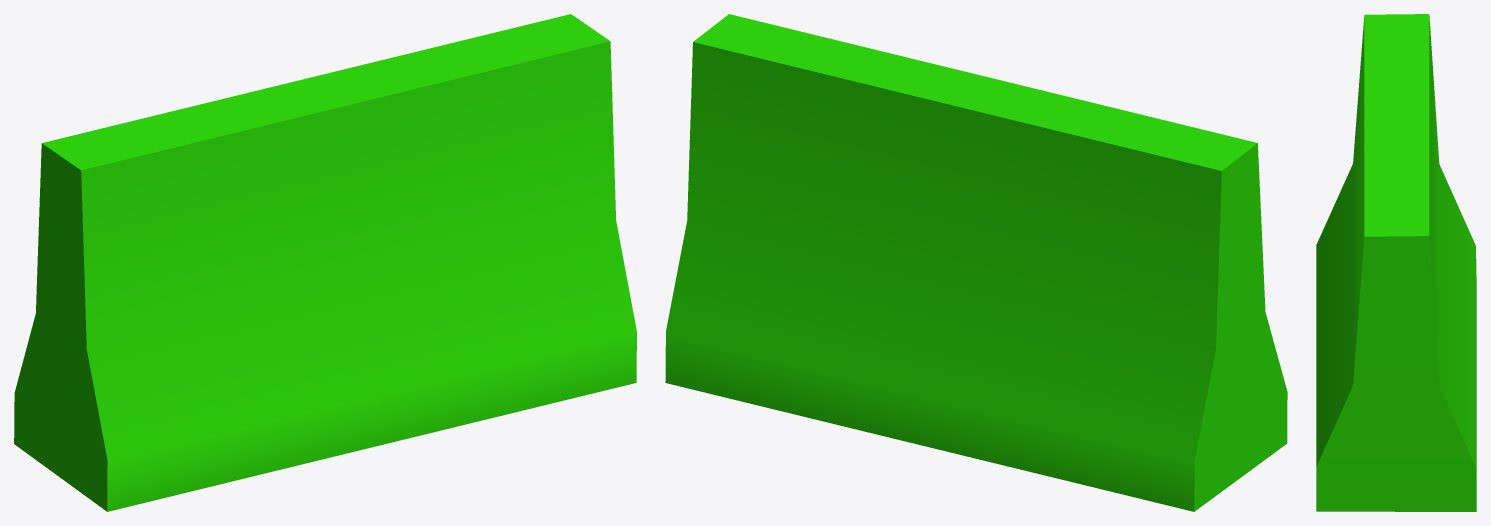
The model's file is Concrete_Blocker_01_Lod1.fbx.
3 views of the same model, side by side, from view 1: azimuth 30°, elevation 25°; view 2: azimuth 150°, elevation 25°; view 3: azimuth 270°, elevation 25° (orthographic). The views are drawn at different scales.
Parts seen in each view (by area): view 1: Concrete_Blocker_01_Lod1; view 2: Concrete_Blocker_01_Lod1; view 3: Concrete_Blocker_01_Lod1.
Boxes of the visible parts, x1,y1,x2,y2 form: Concrete_Blocker_01_Lod1: [14, 14, 636, 511]; Concrete_Blocker_01_Lod1: [665, 14, 1287, 511]; Concrete_Blocker_01_Lod1: [1316, 14, 1476, 511].
Size of the model in its own units: 118 by 68.43 by 36.06.
